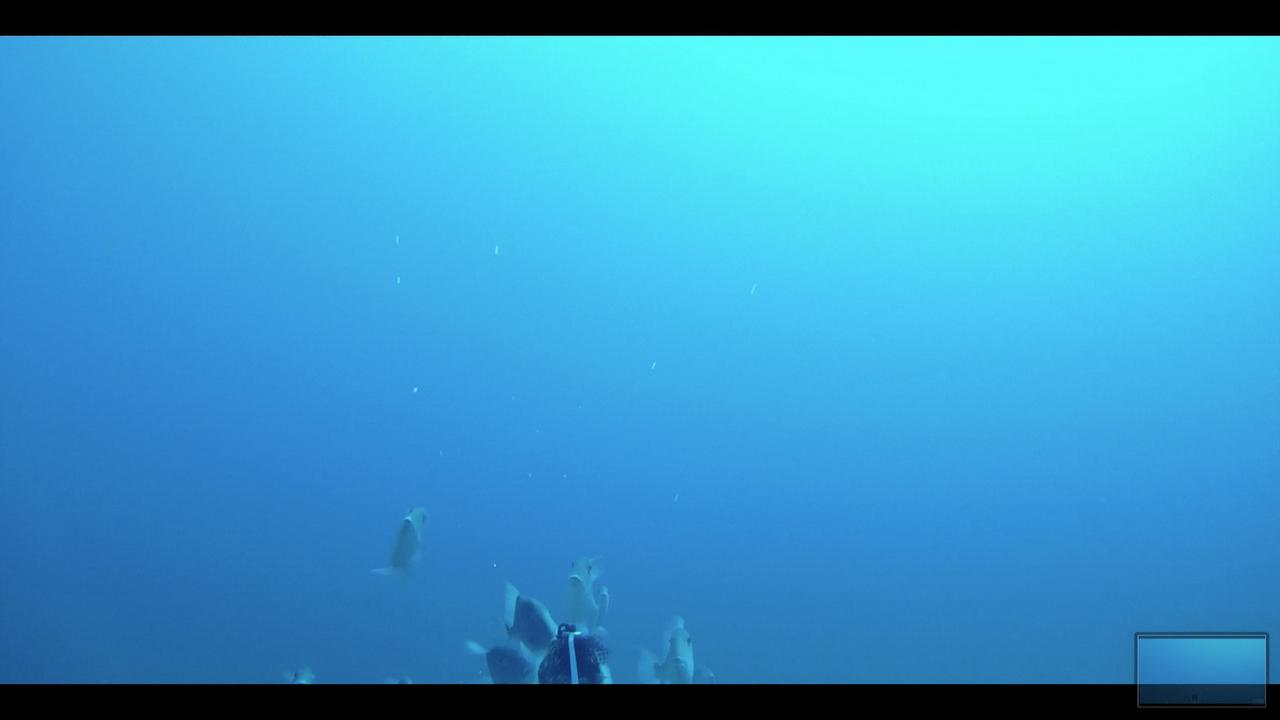balistes: (489, 577, 562, 660), (367, 496, 430, 583), (637, 610, 698, 681), (465, 639, 539, 681), (566, 544, 600, 634)
